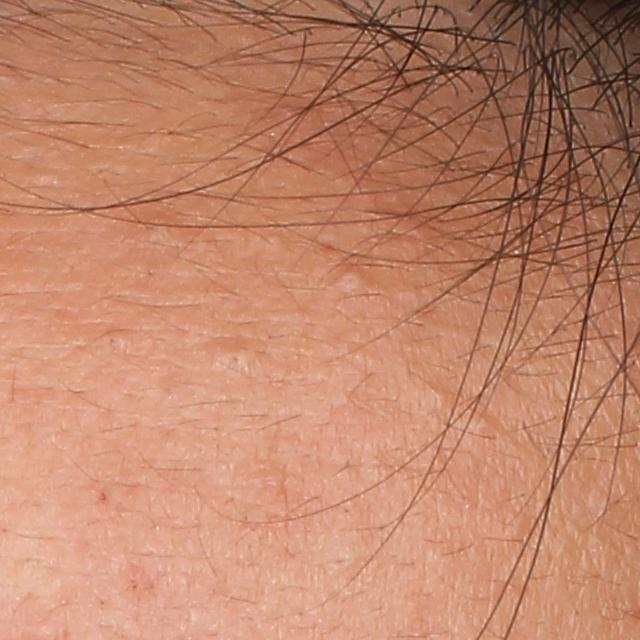comedo: (201, 341, 267, 380), (332, 266, 373, 301), (111, 330, 136, 354), (430, 387, 452, 409)
